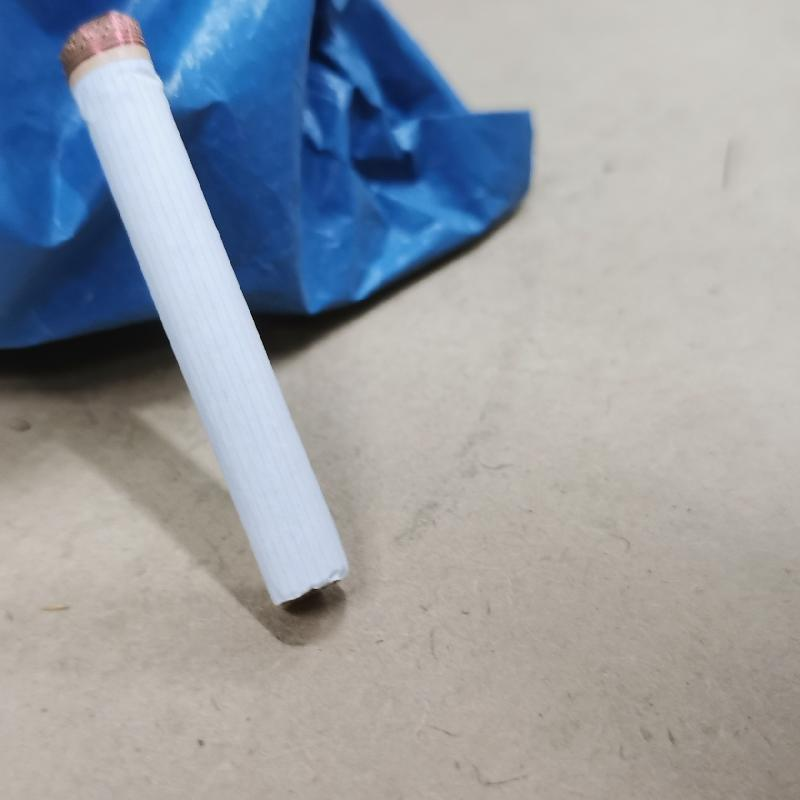cigarette: (49, 7, 355, 611)
